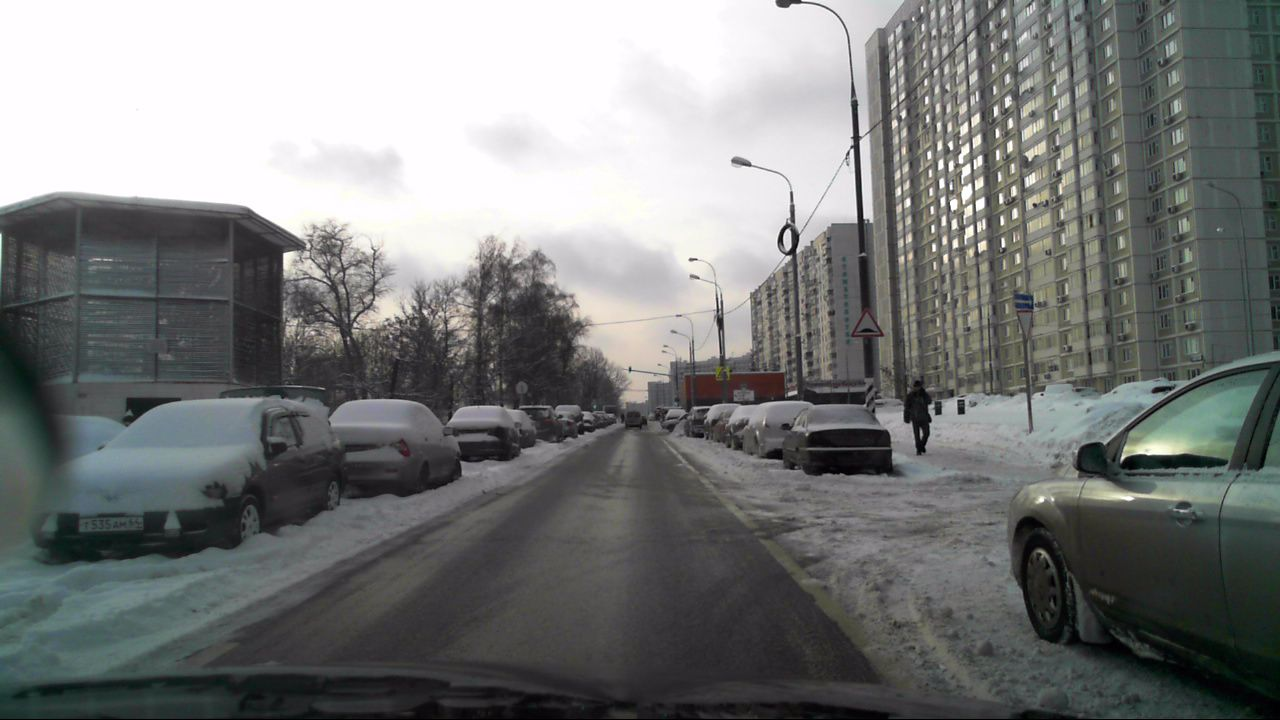One-Way Traffic: (1013, 294, 1034, 309)
